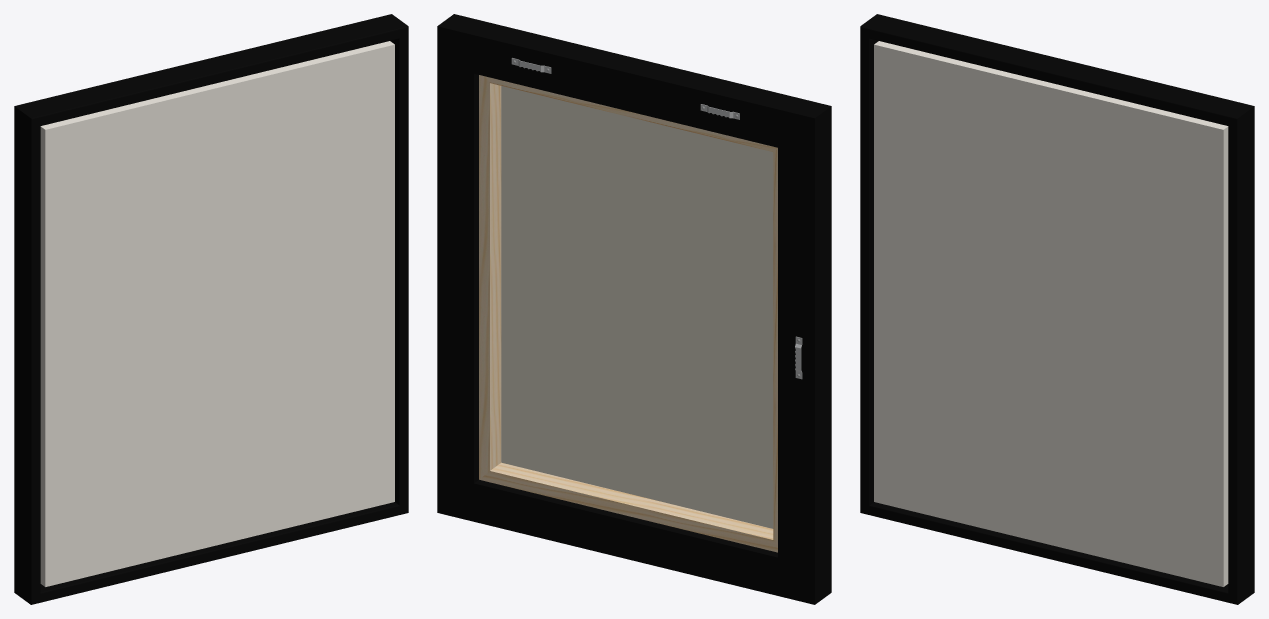
File: decoded-from-delivery.glb
3 views of the same model, side by side, from view 1: azimuth 30°, elevation 25°; view 2: azimuth 150°, elevation 25°; view 3: azimuth 330°, elevation 25° (orthographic).
Visible parts, largest first — view 1: Canvas artwork front, Tray approved profile 0; view 2: Canvas linen reverse, Tray approved profile 0, Stretcher top, Sawtooth hanger 0; view 3: Canvas artwork front, Tray approved profile 0.
Boxes of the visible parts, x1,y1,x2,y2 form: Canvas artwork front: (40, 41, 394, 586); Tray approved profile 0: (14, 14, 408, 604); Canvas linen reverse: (501, 86, 773, 528); Tray approved profile 0: (437, 14, 831, 604); Stretcher top: (479, 75, 777, 552); Sawtooth hanger 0: (511, 58, 802, 379); Canvas artwork front: (874, 41, 1228, 586); Tray approved profile 0: (860, 14, 1254, 604).
Size of the model in its own units: 0.432 by 0.532 by 0.0364.
7 materials, 2 textured.
